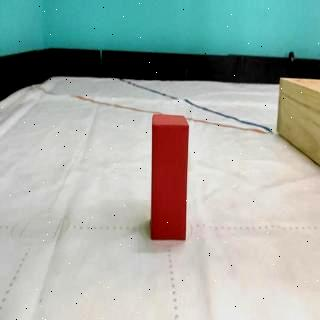redbox: (152, 115, 188, 240)
